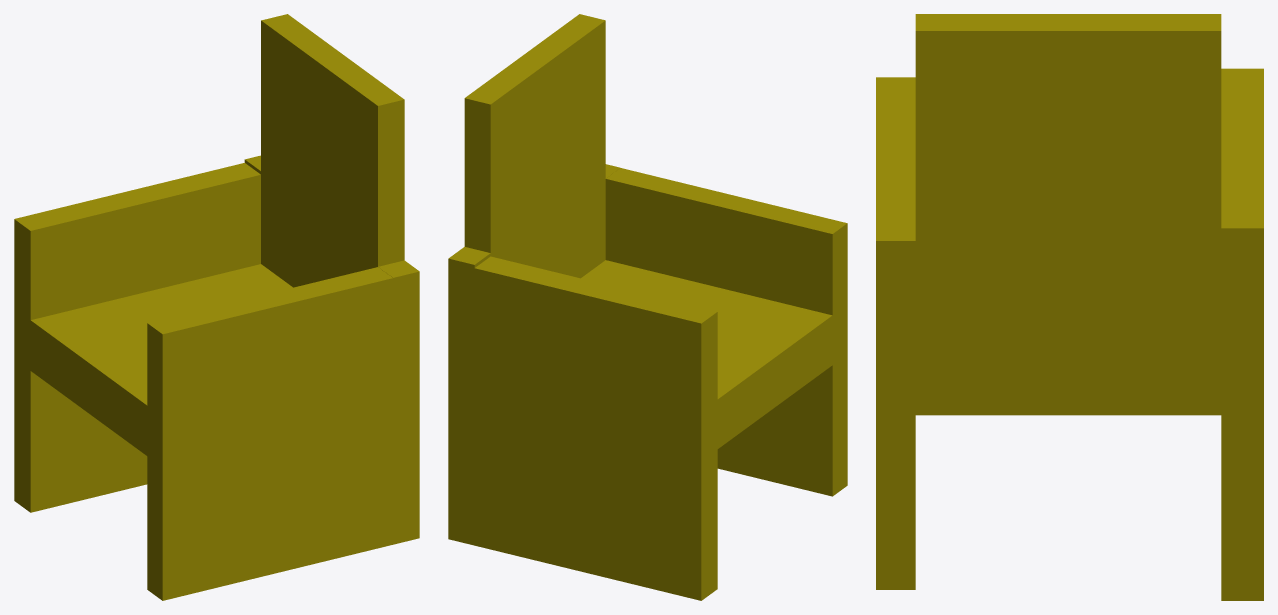
File: chair.obj
3 views of the same model, side by side, from view 1: azimuth 30°, elevation 25°; view 2: azimuth 150°, elevation 25°; view 3: azimuth 270°, elevation 25° (orthographic). The views are drawn at different scales.
Visible parts, largest first — view 1: Cube; view 2: Cube; view 3: Cube.
Part boxes in pixels (box(x1,y1,x2,y2)): Cube: box(14, 14, 419, 600); Cube: box(448, 14, 847, 600); Cube: box(876, 14, 1263, 600).
Size of the model in its own units: 2 by 3.24 by 2.
